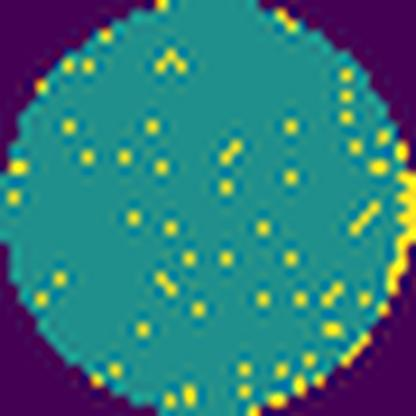Edge-Loc: (378, 167, 415, 295)
